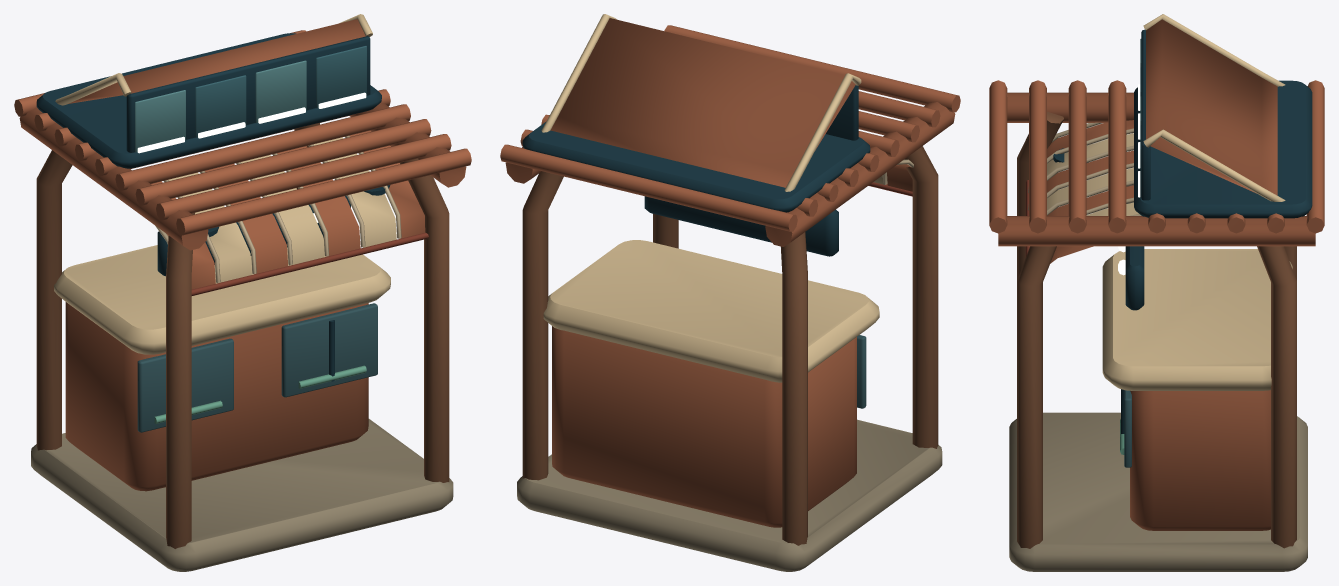
File: annex_workshop_5.glb
The picture shows the model from 3 angles, left to right: view 1: azimuth 30°, elevation 25°; view 2: azimuth 150°, elevation 25°; view 3: azimuth 270°, elevation 25°; orthographic projection. The views are drawn at different scales.
Parts seen in each view (by area): view 1: Annex_workshop_5; view 2: Annex_workshop_5; view 3: Annex_workshop_5.
Part boxes in pixels (bbox=[...]): Annex_workshop_5: bbox=[14, 14, 471, 571]; Annex_workshop_5: bbox=[500, 14, 960, 571]; Annex_workshop_5: bbox=[989, 14, 1324, 571].
Size of the model in its own units: 1.93 by 2.82 by 1.98.
